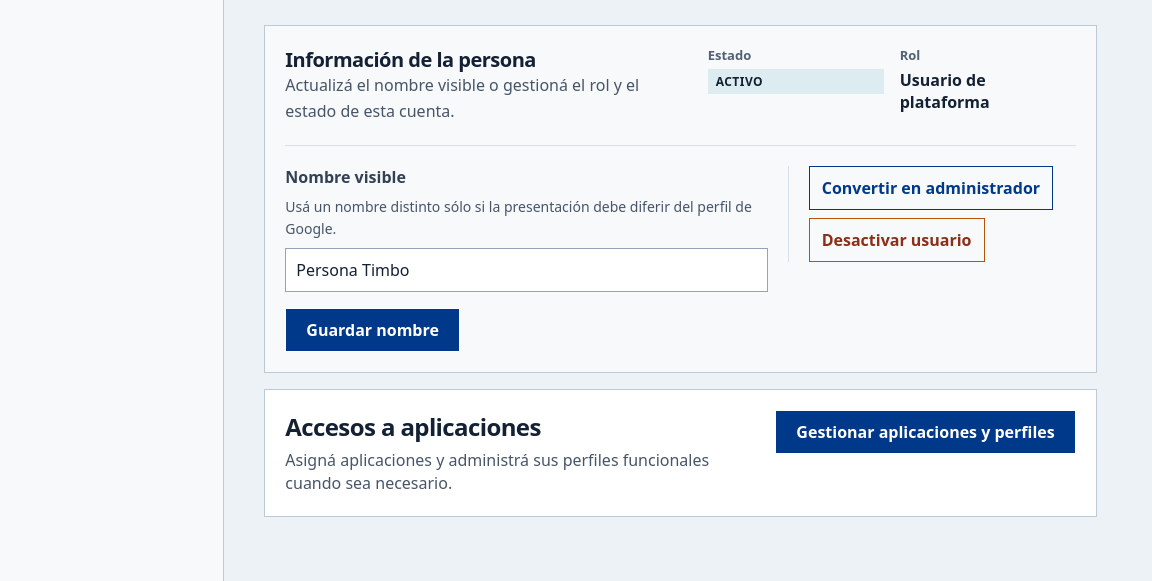
App › muestra un error recuperable al no poder cargar las asignaciones de una ficha
The image size is (1152, 581).
(page scrolled)
Step 1. Click the button "Gestionar aplicaciones y perfiles" → click(926, 432), box [775, 410, 1076, 454]
(page scrolled)
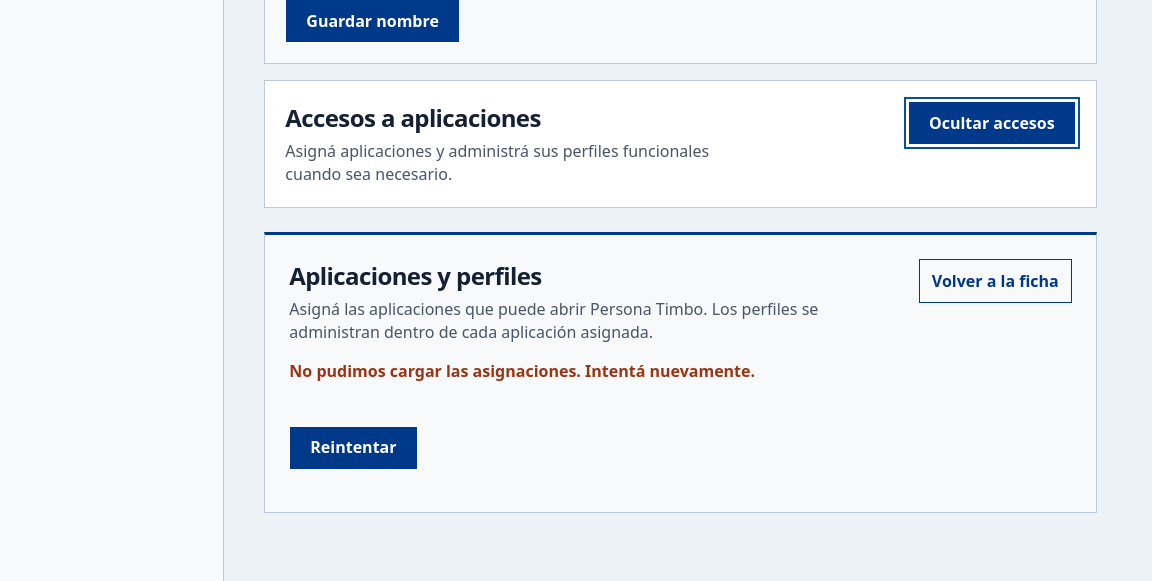
Check: the message shows "No pudimos cargar las asignaciones", box [289, 360, 755, 382]
Step 2. Click the button "Reintentar" → click(353, 448), box [289, 426, 418, 470]
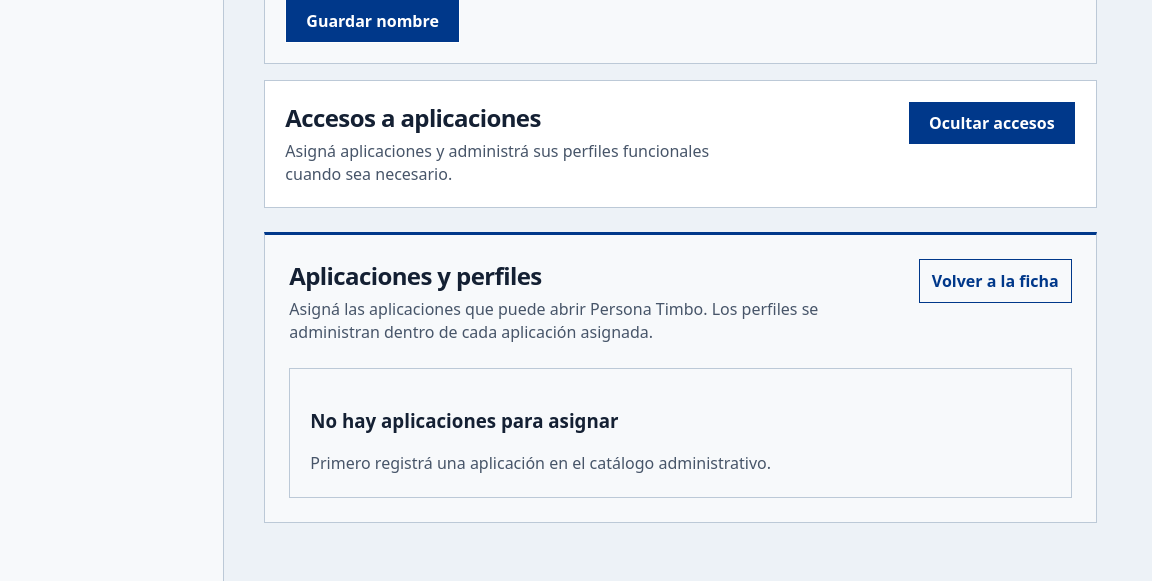
Check: the heading "No hay aplicaciones para asignar" is shown, box [310, 408, 618, 433]
